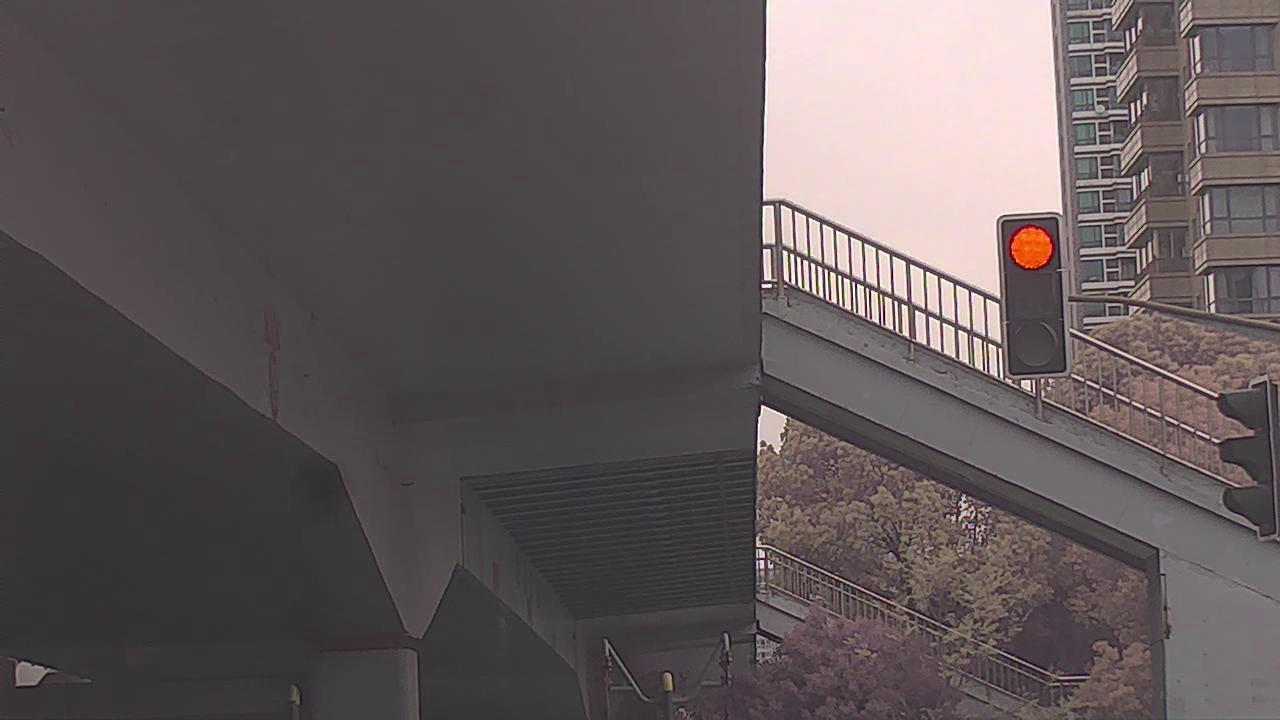traffic_light: (1000, 212, 1067, 384)
